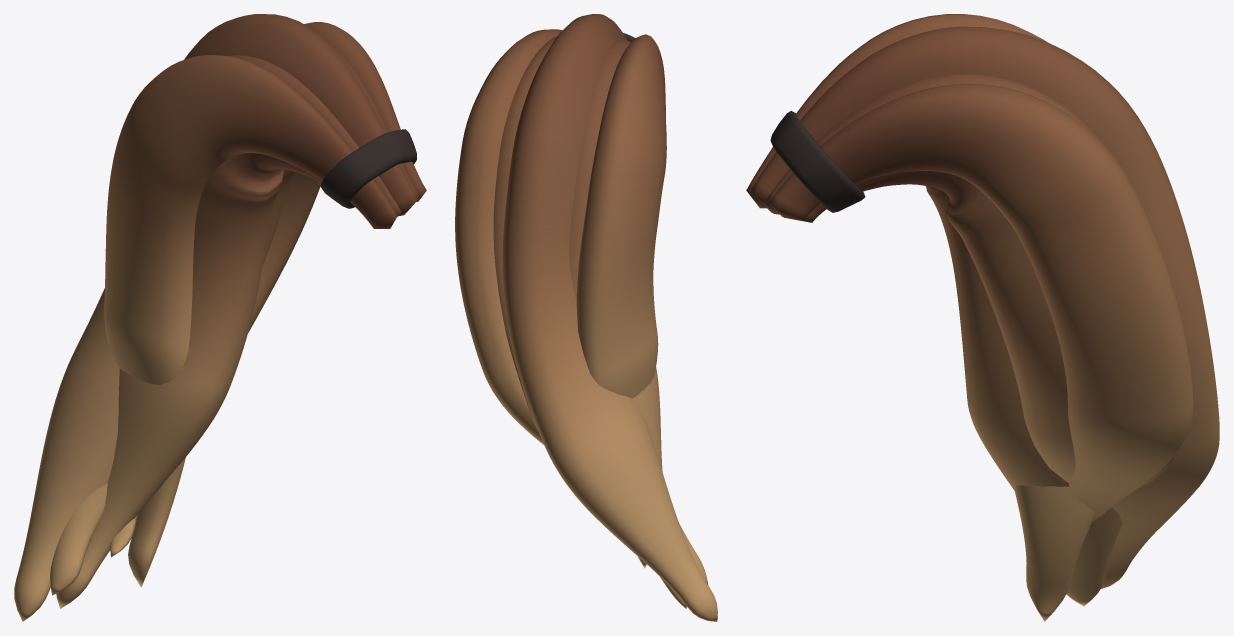
The model's file is ponytail-beanie-ombre.glb.
The picture shows the model from 3 angles, left to right: view 1: azimuth 30°, elevation 25°; view 2: azimuth 150°, elevation 25°; view 3: azimuth 270°, elevation 25°; orthographic projection. The views are drawn at different scales.
Parts seen in each view (by area): view 1: Hair / rounded tail220 0, Hair / rounded tail220 1, Hair / rounded tail220 2, Hair / rounded tail220 3, Hair / tie220, Hair / rounded tail220 4; view 2: Hair / rounded tail220 2, Hair / rounded tail220 0, Hair / rounded tail220 4, Hair / rounded tail220 1, Hair / rounded tail220 3; view 3: Hair / rounded tail220 4, Hair / rounded tail220 2, Hair / rounded tail220 3, Hair / rounded tail220 1, Hair / rounded tail220 0, Hair / tie220.
Boxes of the visible parts, box(x1,y1,x2,y2) form: Hair / rounded tail220 0: box(104, 55, 397, 587); Hair / rounded tail220 1: box(56, 55, 401, 608); Hair / rounded tail220 2: box(14, 14, 418, 621); Hair / rounded tail220 3: box(50, 47, 419, 595); Hair / tie220: box(320, 129, 416, 208); Hair / rounded tail220 4: box(110, 22, 426, 557); Hair / rounded tail220 2: box(502, 14, 717, 621); Hair / rounded tail220 0: box(576, 34, 666, 568); Hair / rounded tail220 4: box(455, 29, 562, 444); Hair / rounded tail220 1: box(569, 39, 686, 608); Hair / rounded tail220 3: box(493, 36, 708, 584); Hair / rounded tail220 4: box(769, 84, 1193, 521); Hair / rounded tail220 2: box(750, 26, 1219, 588); Hair / rounded tail220 3: box(766, 74, 1181, 488); Hair / rounded tail220 1: box(773, 186, 1122, 606); Hair / rounded tail220 0: box(746, 14, 1095, 621); Hair / tie220: box(770, 111, 865, 212).
Bounding box in the file's own units: 0.2151 × 0.4144 × 0.2604.
Materials: 6 (5 with a texture image).
